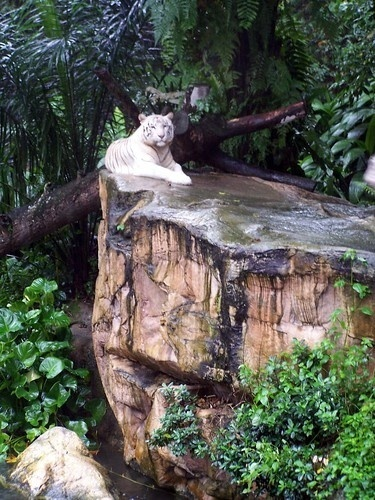tigre: (104, 110, 193, 188)
